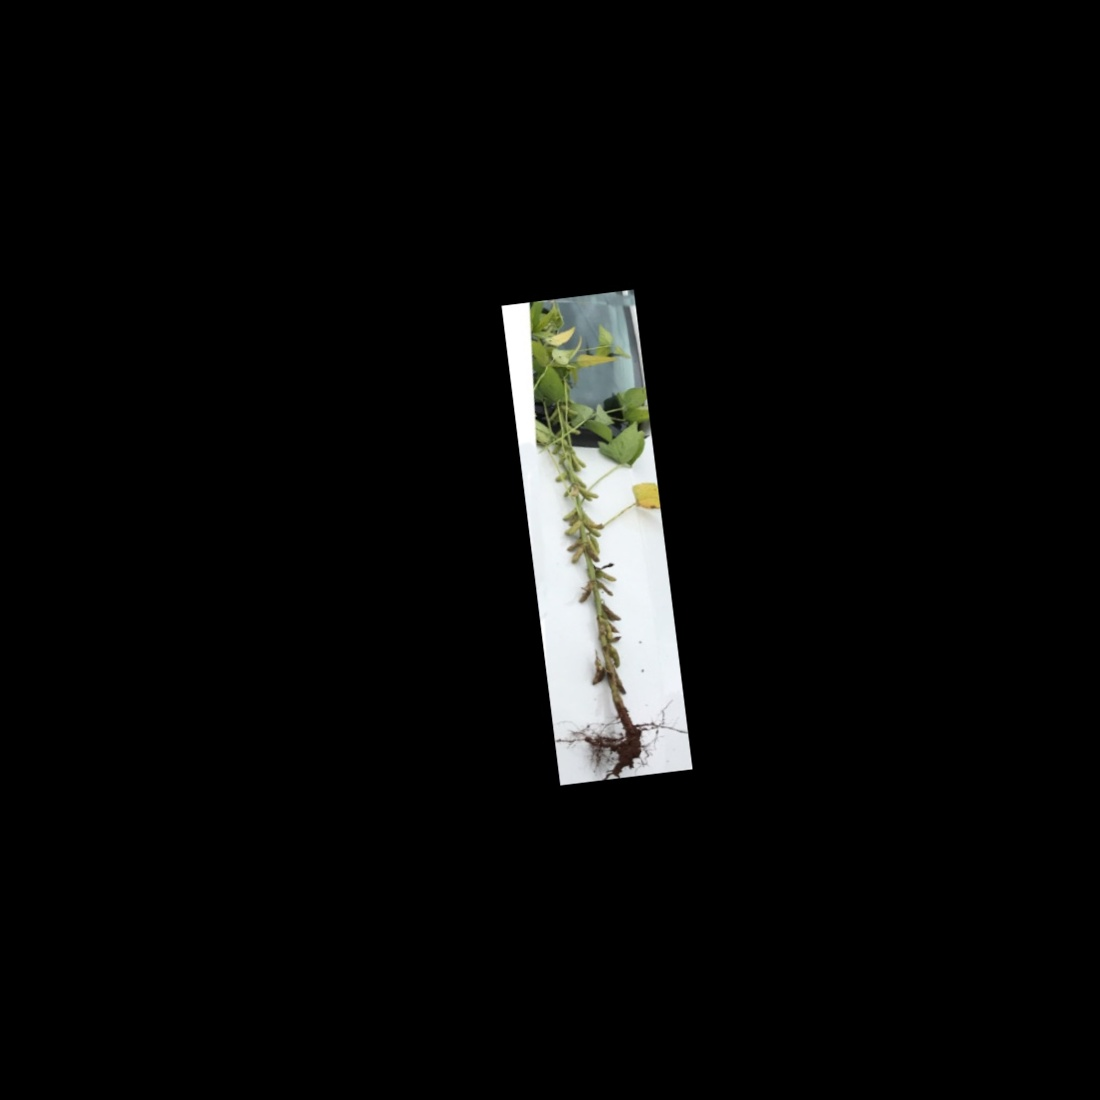pod: (564, 544, 587, 567), (575, 483, 600, 503), (582, 519, 602, 540), (559, 505, 581, 523), (563, 519, 584, 537), (564, 418, 583, 437), (551, 468, 571, 484)
soy: (511, 294, 684, 772)
